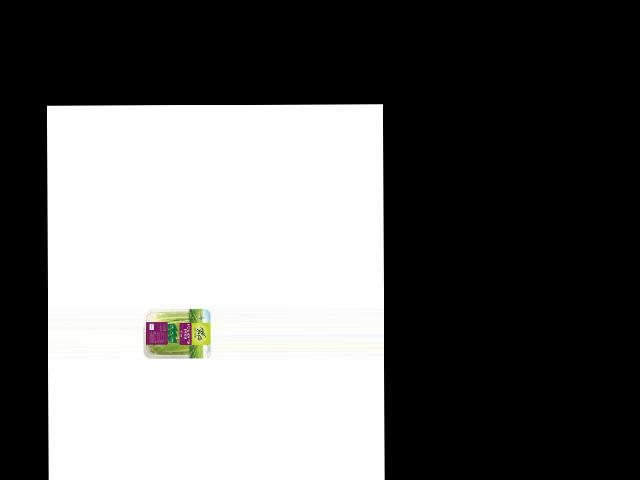lettuce: (142, 307, 205, 358)
